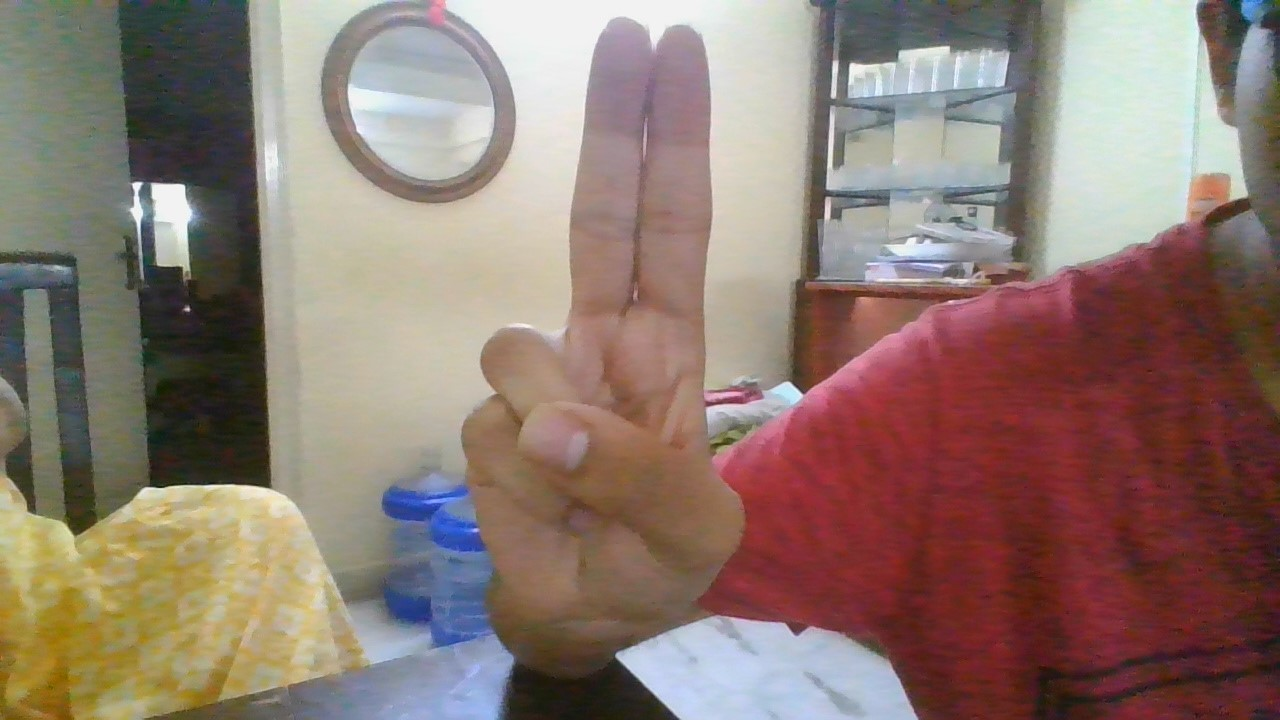u: (458, 14, 754, 626)
